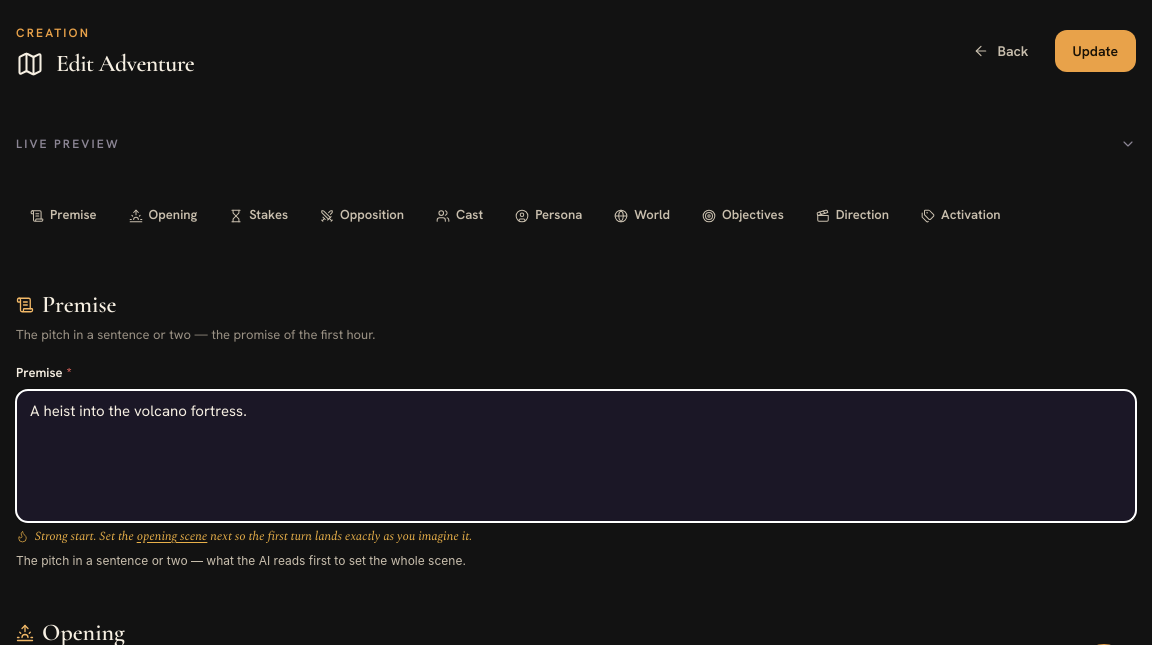
Test: AdventureCreator voice write refusals (I-36) › shows the voice copy for a 422 voice_not_eligible and stays in the editor
Click the button "Update" at point(1095, 51), box [1054,30,1136,72]
(page scrolled)
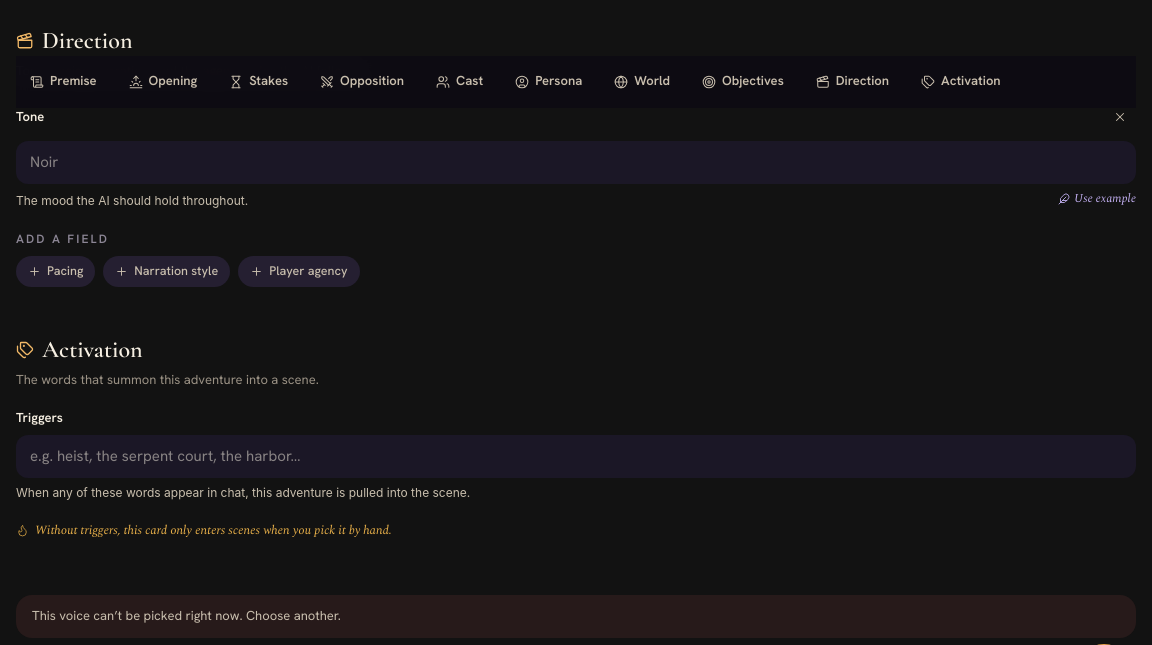
Now the text "This voice can’t be picked right now. Choose another." is shown, box [32,607,341,626]
